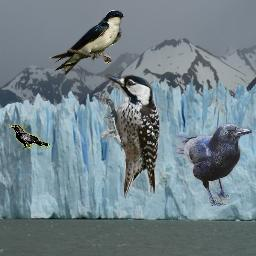Crow: (175, 123, 252, 206), (9, 124, 50, 149)
Swallow: (49, 10, 124, 75)
Woodpecker: (99, 74, 159, 199)
